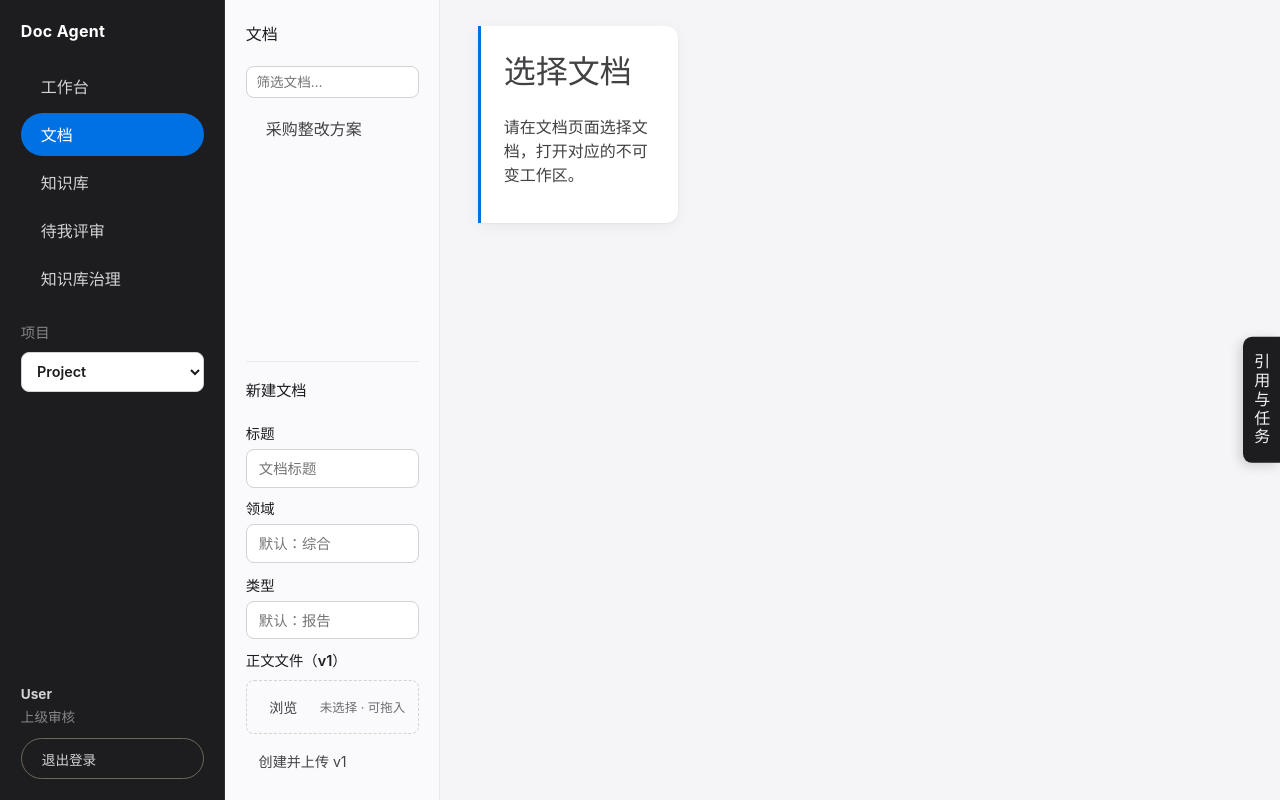
Test: document and review workspace boundaries › hides review actions when an opened task has been reassigned
This screenshot has width=1280, height=800.
Click the button "采购整改方案".
click(332, 128)  # box [246,106,419,150]
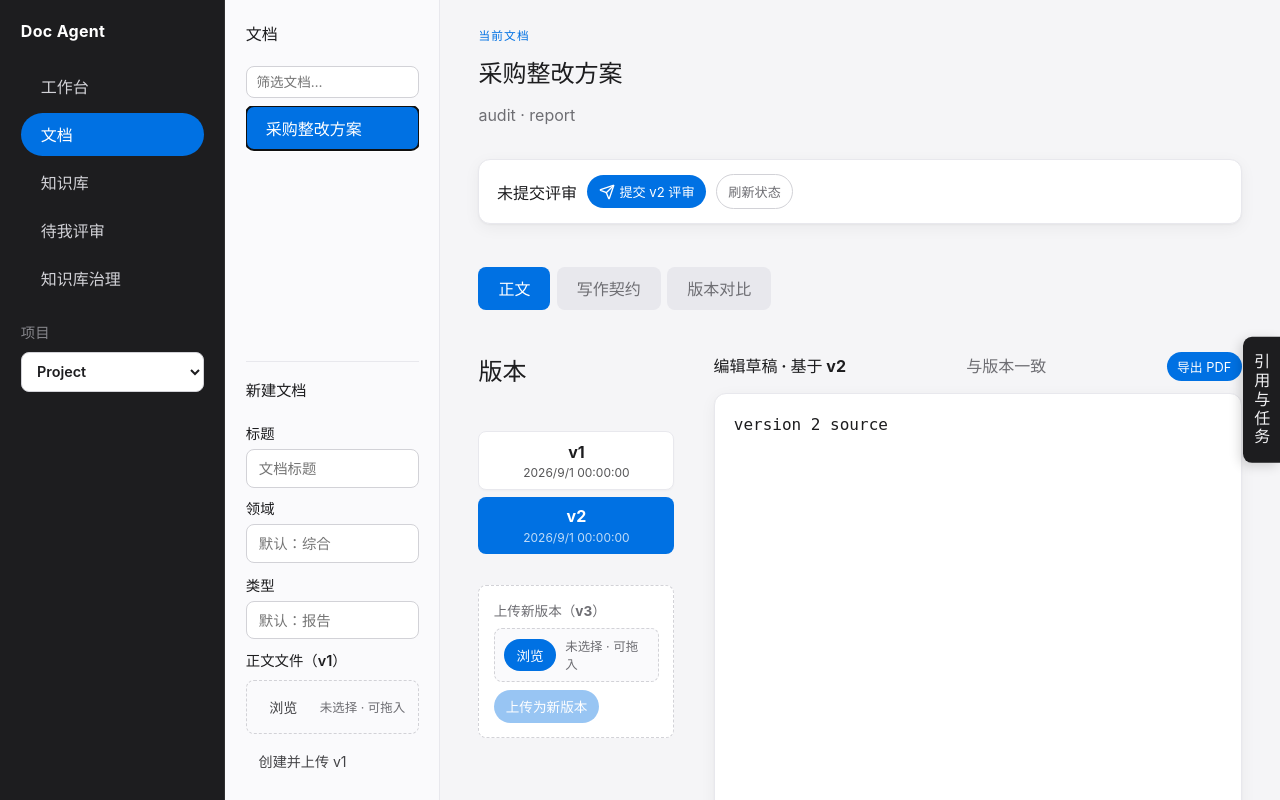
Click the button "待我评审".
click(112, 230)  # box [21,209,204,252]
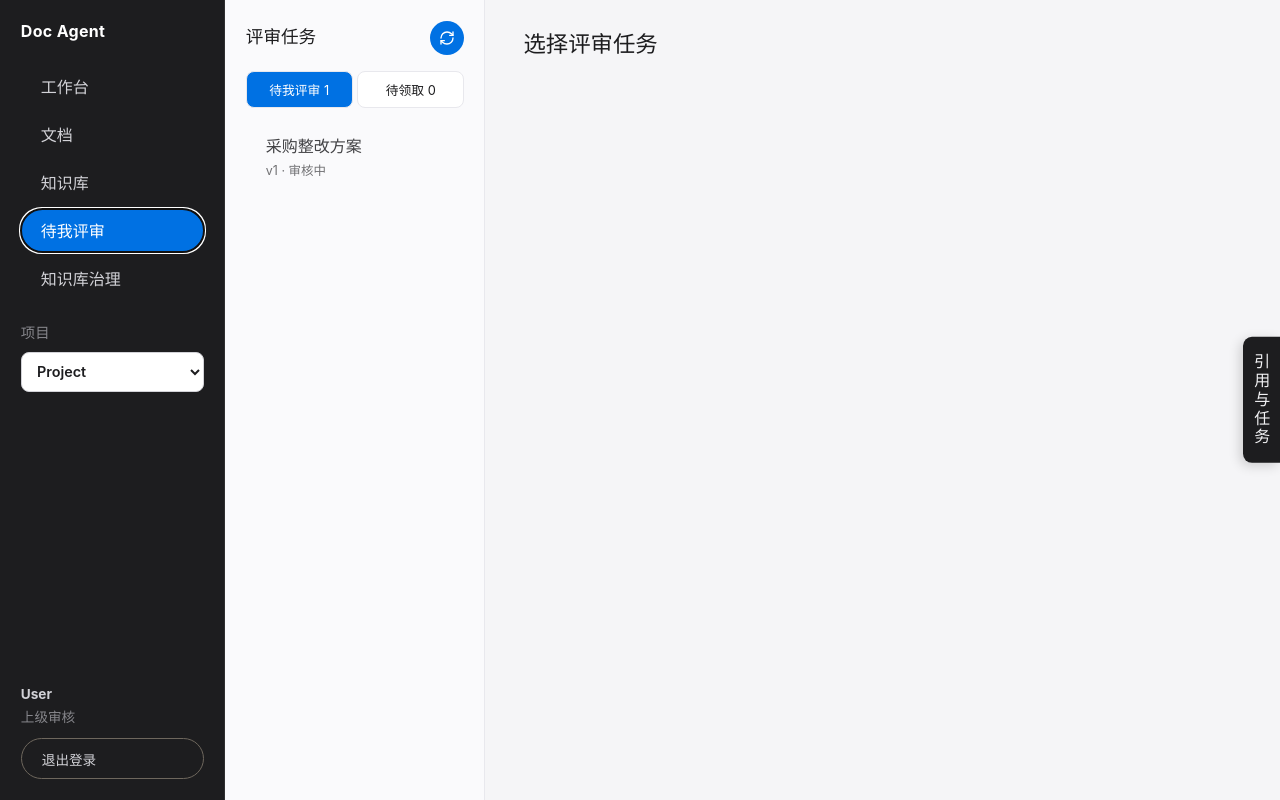
Click the button "采购整改方案 v1 · 审核中".
click(355, 156)  # box [246,124,464,189]
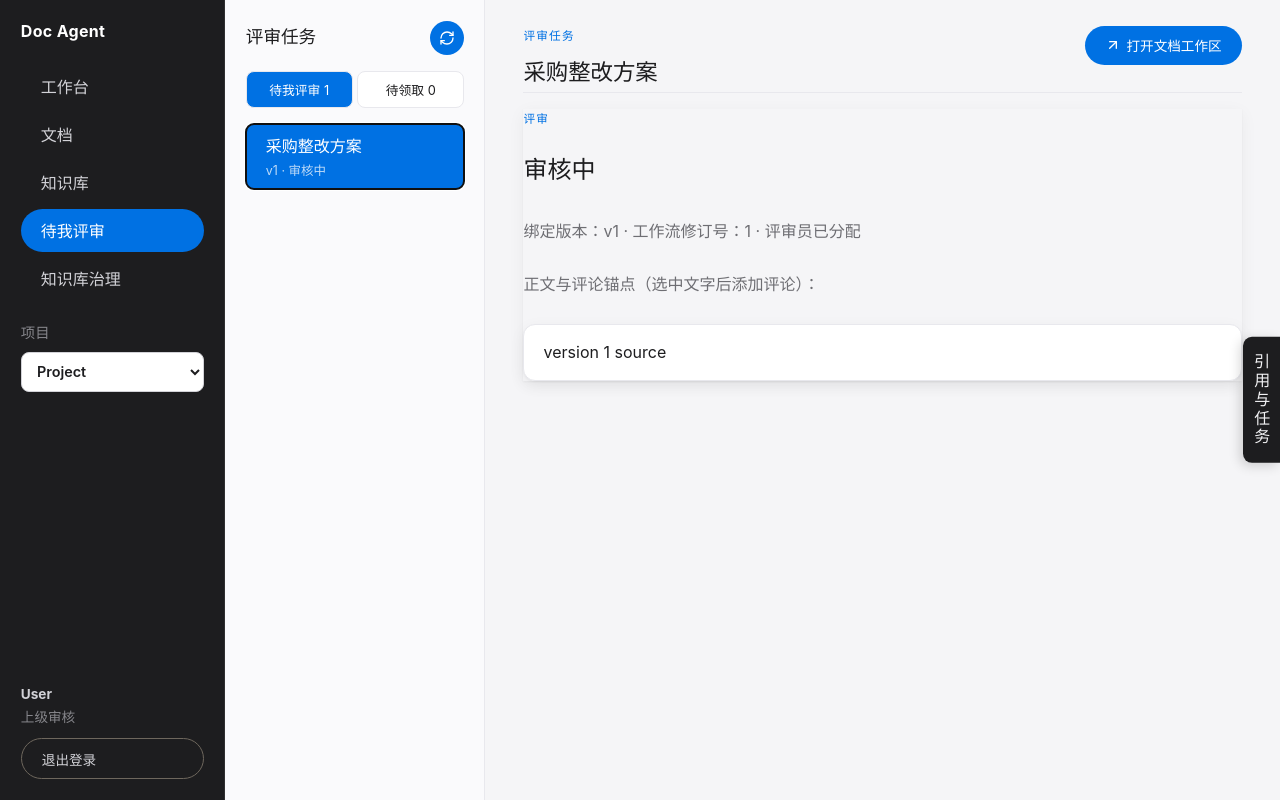
Now the text "version 1 source" is shown, box [523,324,1242,381]
